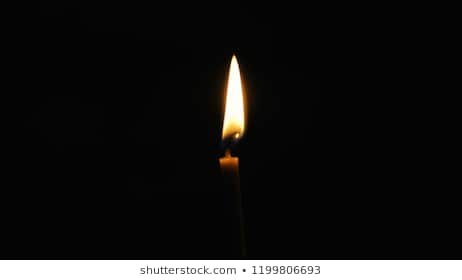Fire: (219, 52, 248, 141)
